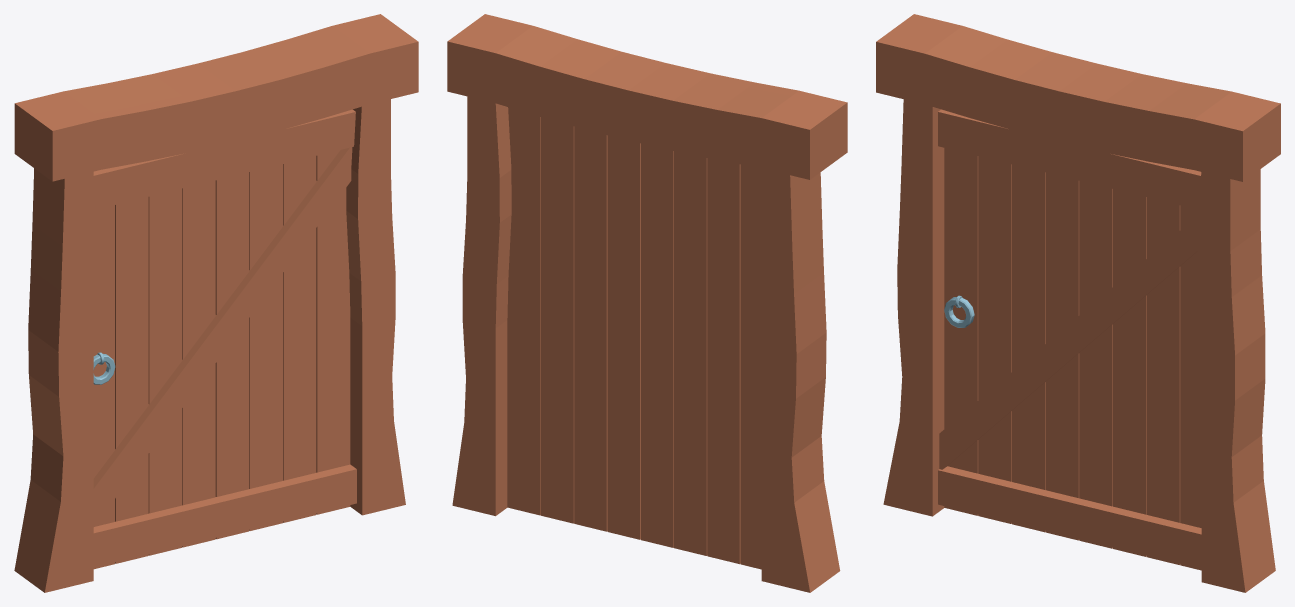
File: Door.fbx
3 views of the same model, side by side, from view 1: azimuth 30°, elevation 25°; view 2: azimuth 150°, elevation 25°; view 3: azimuth 330°, elevation 25° (orthographic).
Visible parts, largest first — view 1: Circle.017; view 2: Circle.017; view 3: Circle.017.
Part boxes in pixels (box(x1,y1,x2,y2)): Circle.017: box(14, 14, 418, 592); Circle.017: box(447, 14, 847, 592); Circle.017: box(876, 14, 1280, 592).
Bounding box in the file's own units: 112 × 137 × 20.08.
1 material, 1 textured.
